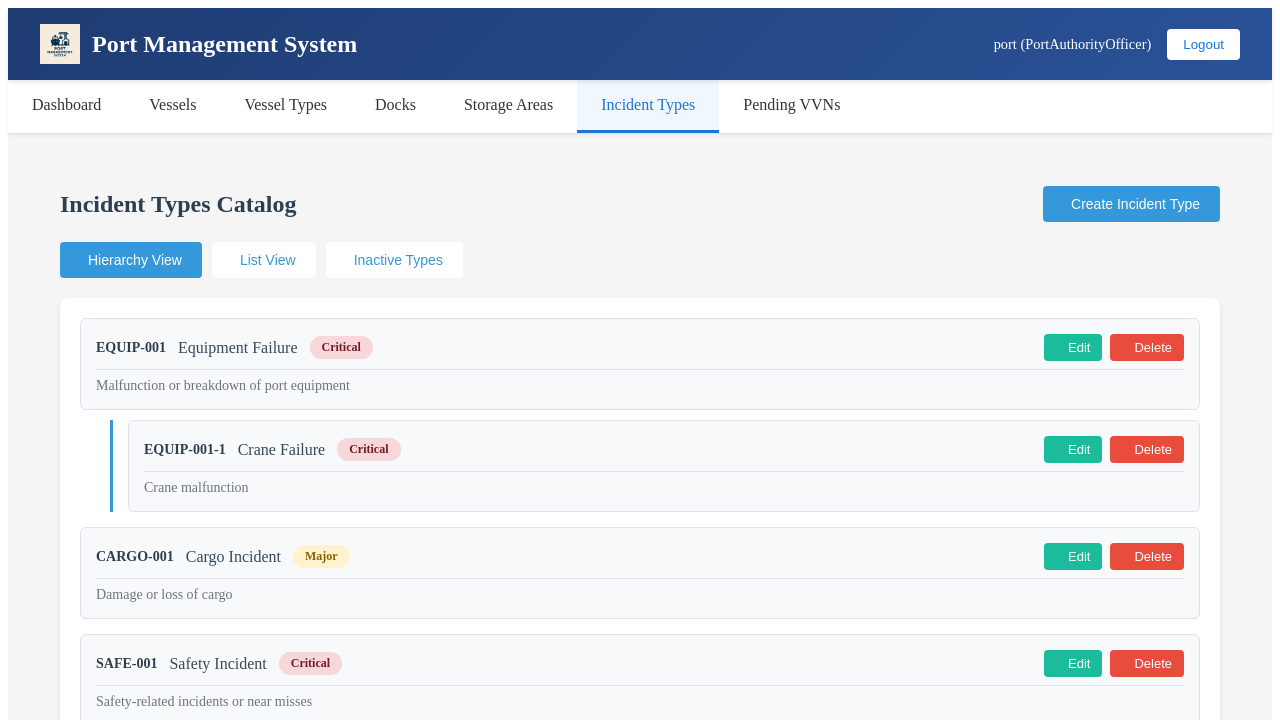
Test case: Port Authority - Incident Types Management › should switch between hierarchy, list, and inactive views
Note: Switch to list view
Click the button "List View".
click(264, 260)  # box [212,242,316,278]
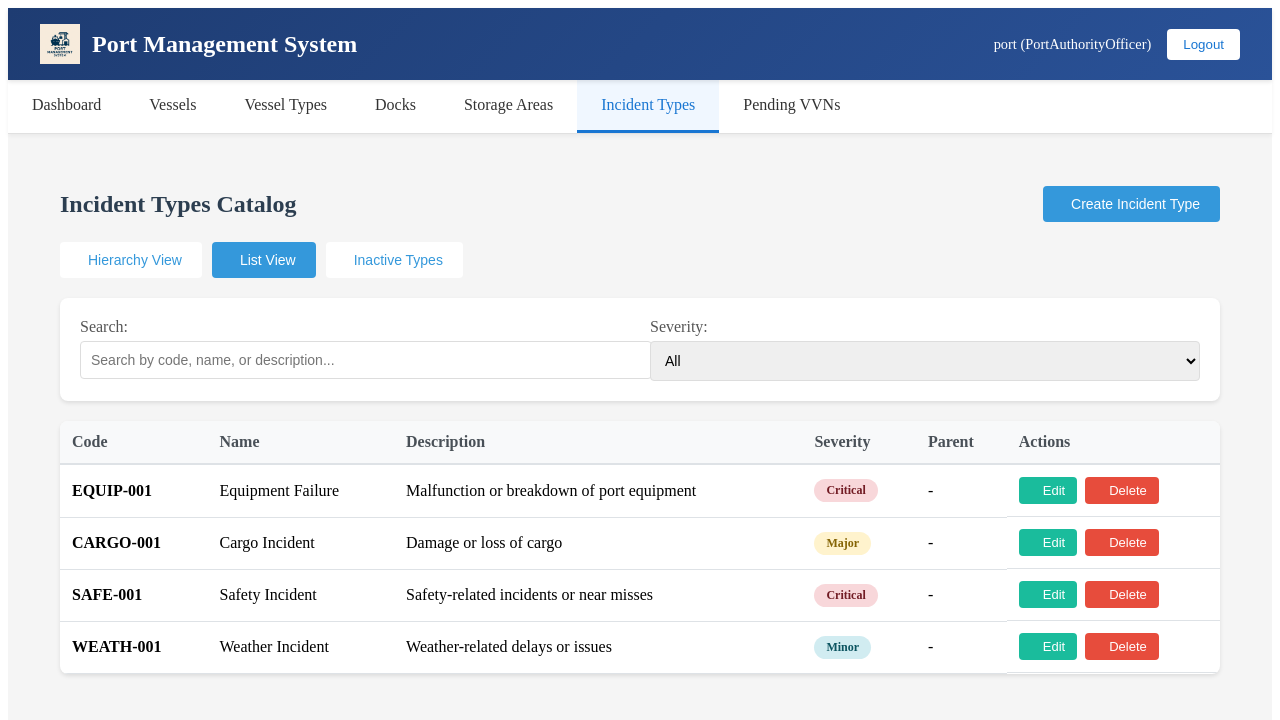
Check: the table is shown, box [60,421,1220,674]
Note: Switch to inactive view
Click the button "Inactive Types".
click(395, 260)  # box [326,242,463,278]
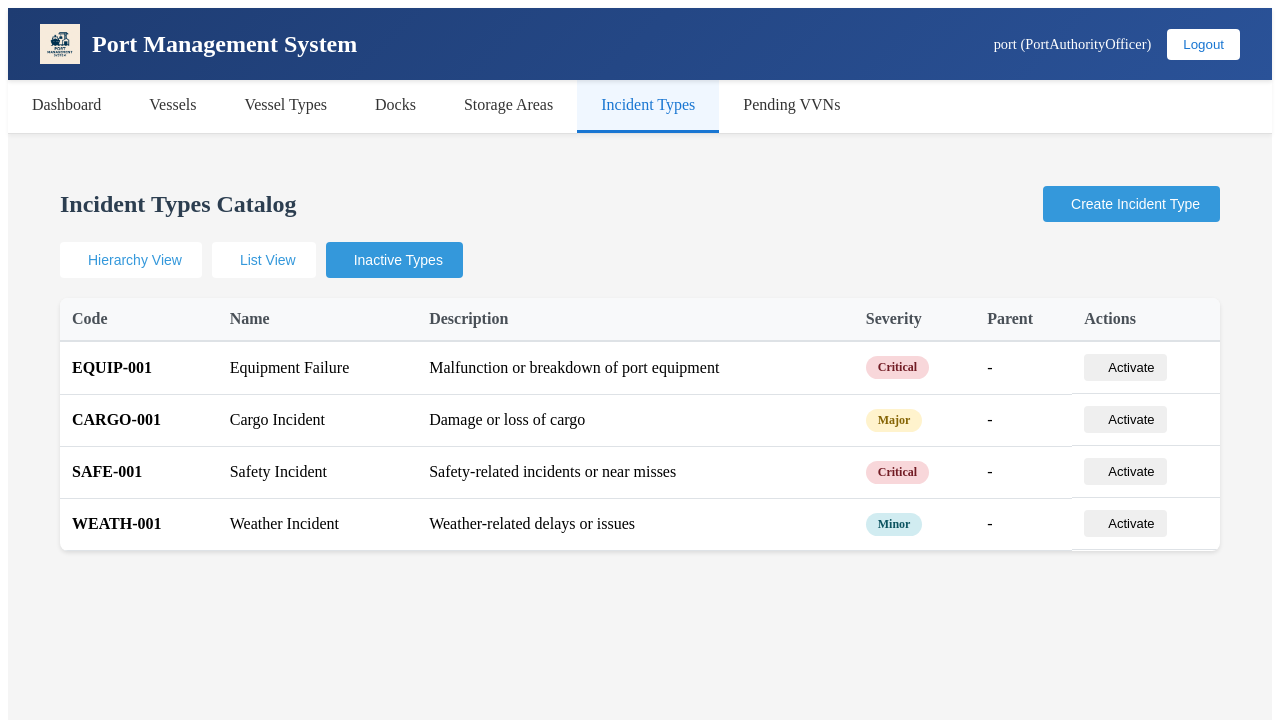
Check: the element with class "list-view" is shown, box [60,298,1220,551]
Note: Switch back to hierarchy
Click the button "Hierarchy View".
click(131, 260)  # box [60,242,202,278]
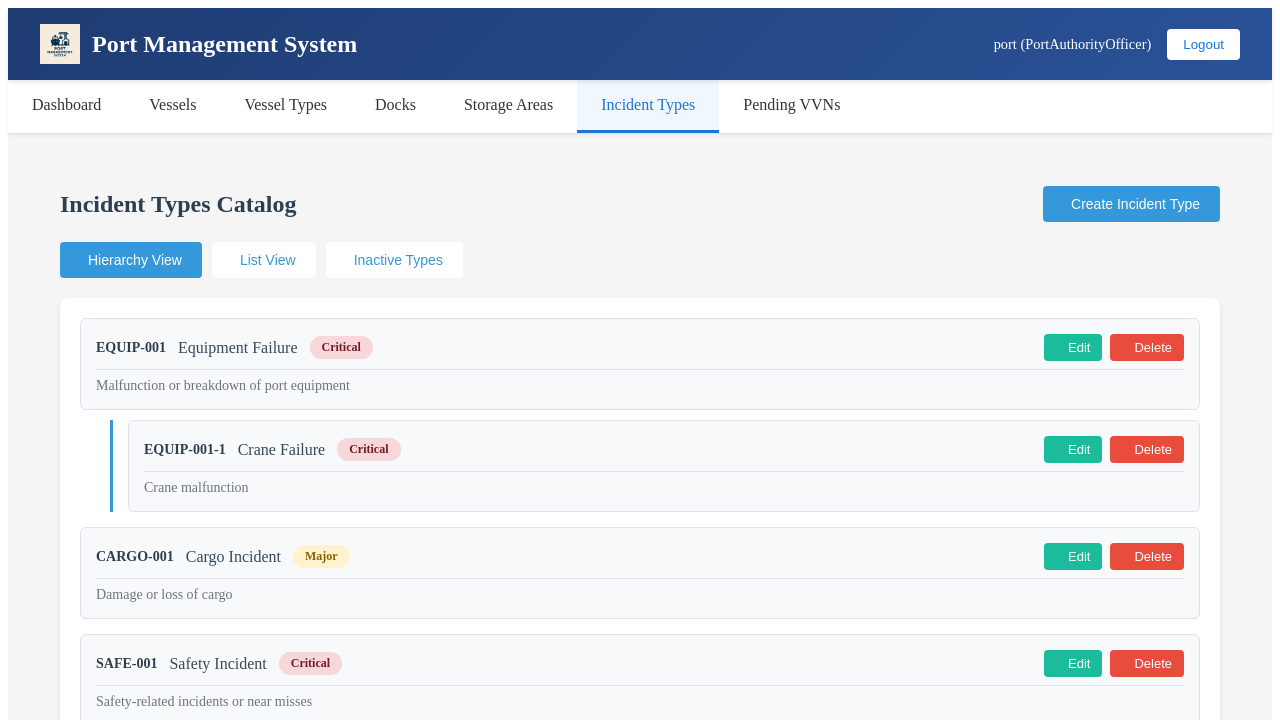
Check: the element with class "hierarchy-view" is shown, box [60,298,1220,719]
